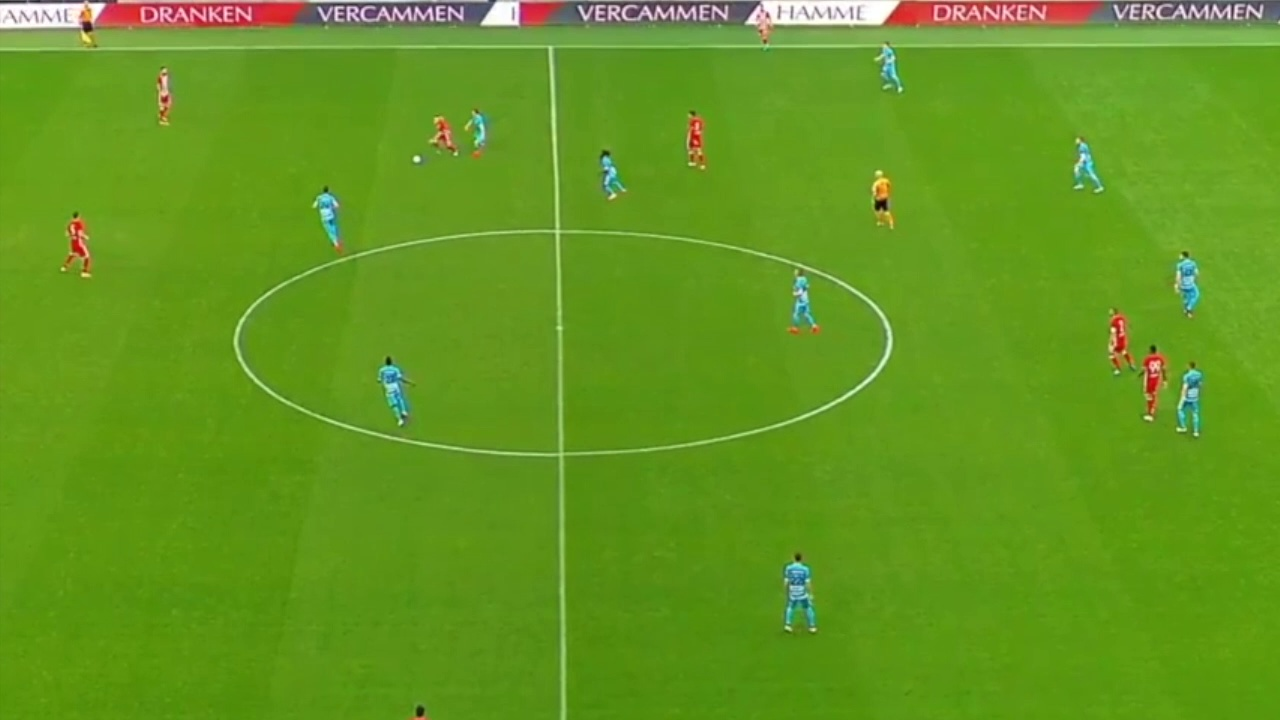ball: (410, 153, 424, 166)
person: (377, 355, 416, 433), (1137, 339, 1171, 421), (313, 181, 352, 252), (785, 265, 824, 333), (781, 554, 816, 629), (61, 210, 97, 281), (1172, 247, 1208, 318), (1176, 358, 1206, 437), (1066, 133, 1106, 192), (869, 39, 908, 94), (1106, 304, 1134, 373), (682, 108, 708, 171), (150, 60, 176, 121), (597, 147, 627, 197), (429, 110, 456, 157), (463, 100, 489, 147)
